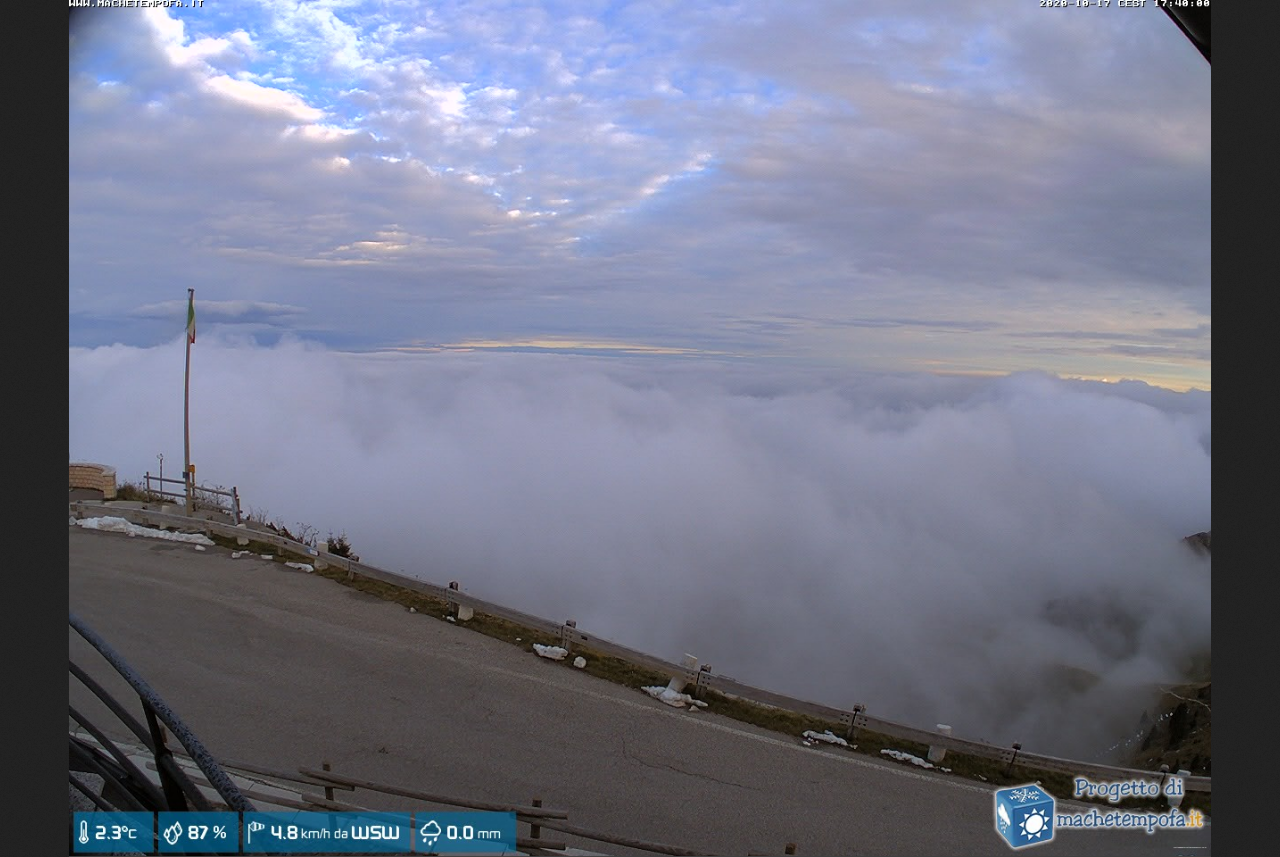no: (185, 294, 199, 344)
